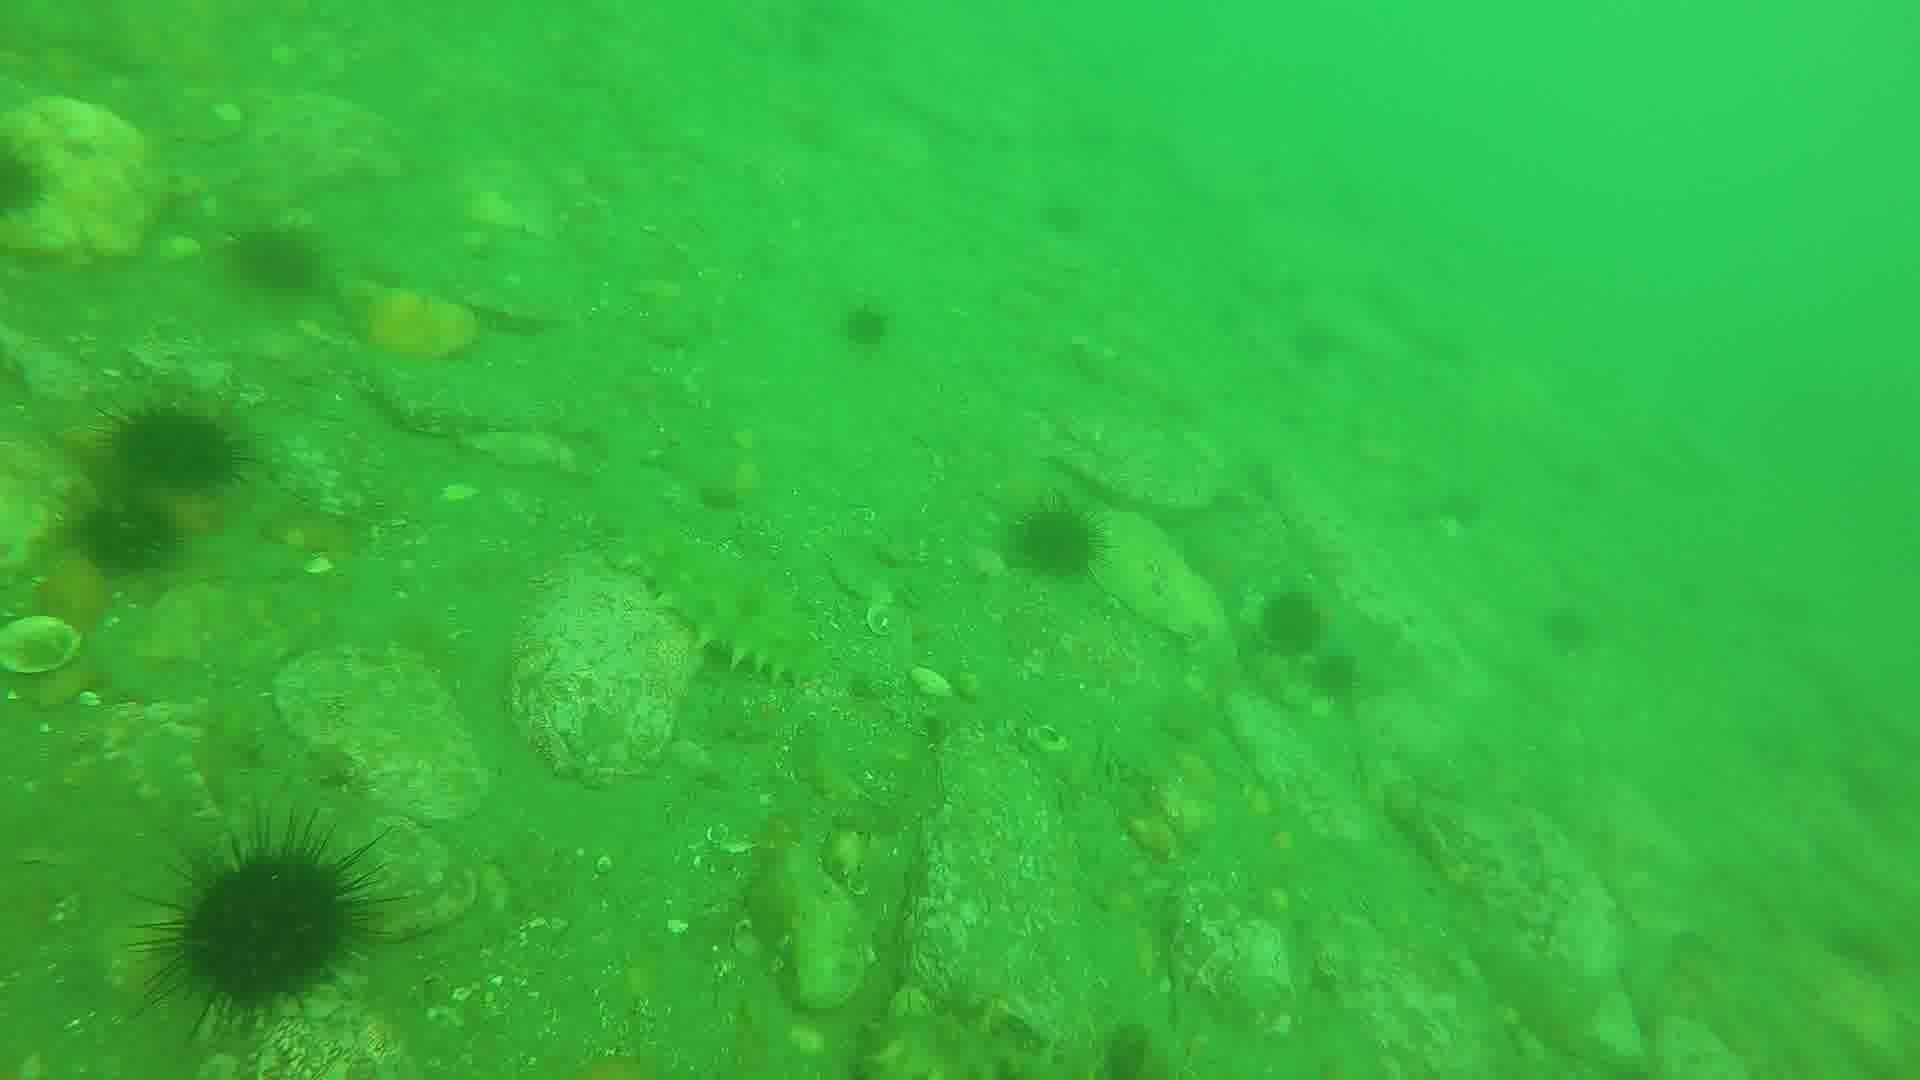echinus: (138, 822, 385, 1026), (103, 401, 249, 498), (71, 493, 179, 580), (1005, 500, 1108, 584), (225, 222, 326, 302), (1254, 585, 1331, 659), (1, 137, 51, 225), (1538, 600, 1601, 659), (1304, 647, 1366, 705), (833, 298, 895, 353), (1036, 191, 1092, 243)
holothurian: (603, 516, 829, 688)
